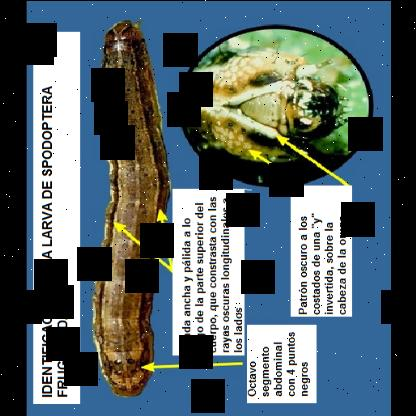oruga: (89, 12, 166, 402)
